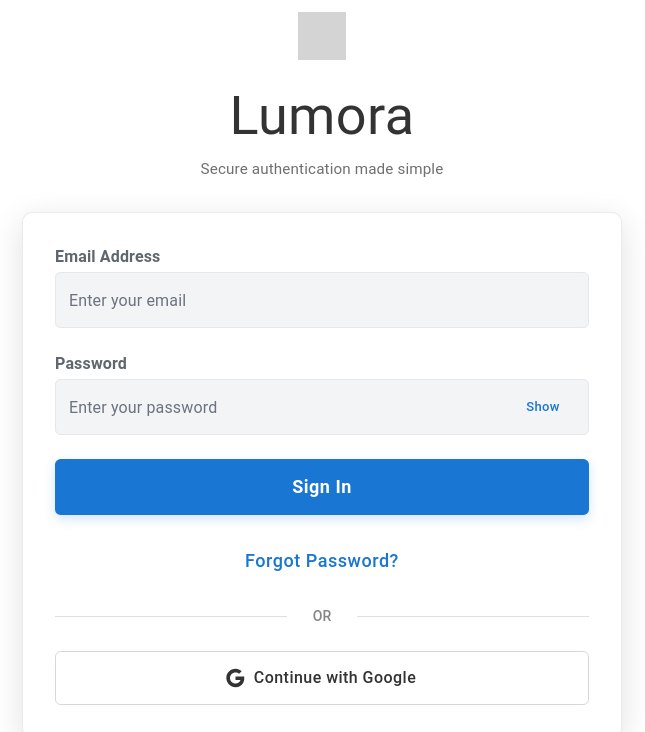
it: LumoraLogin Component › Google Login Flow › should show loading state during Google login
The image size is (645, 732).
Click the button "Continue with Google" at [322, 678], box [55,650,589,704]
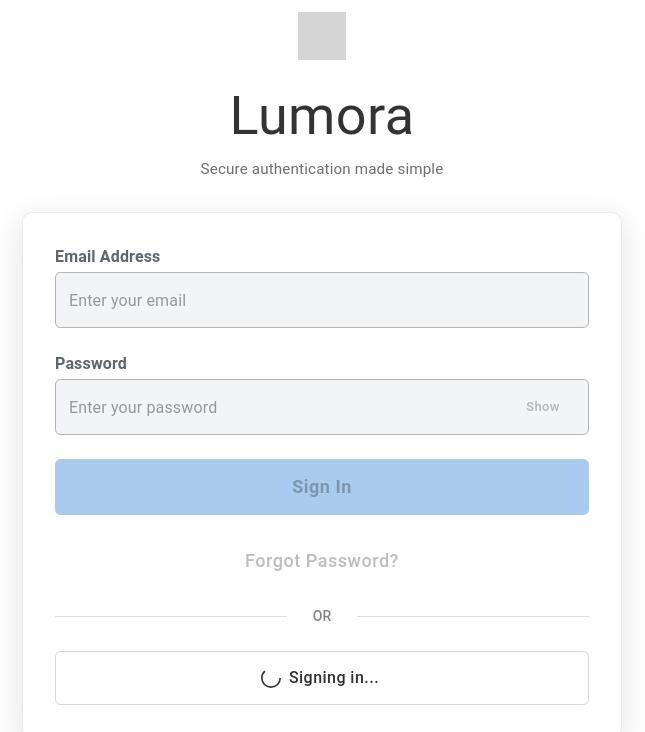
Expected: the button "Signing in..." is disabled, [55,650,589,704]
